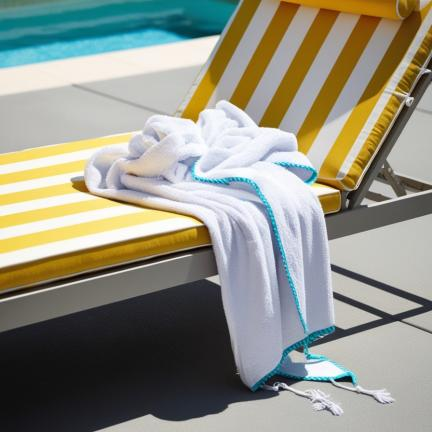occupied chair: (0, 0, 432, 389)
